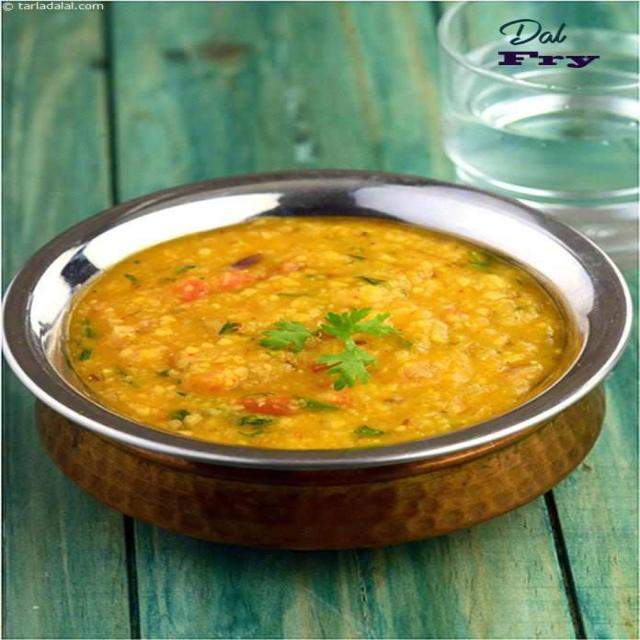dal: (64, 224, 556, 446)
